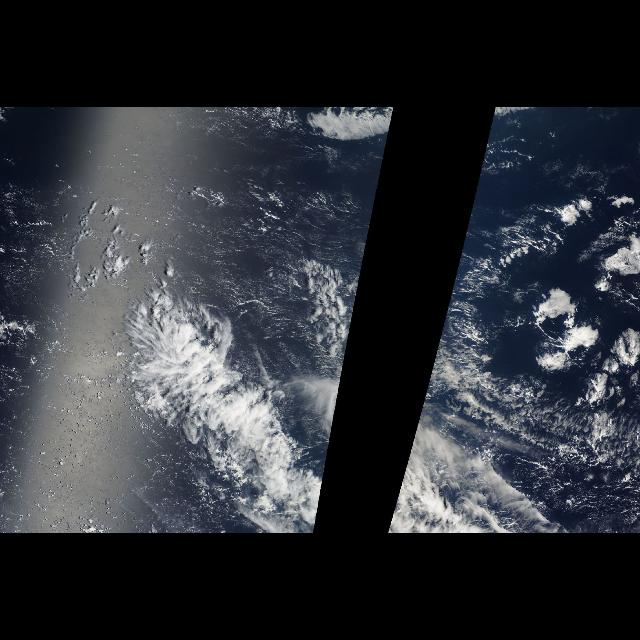Fish: (114, 270, 330, 532)
Sugar: (144, 148, 376, 270), (13, 354, 127, 532)
